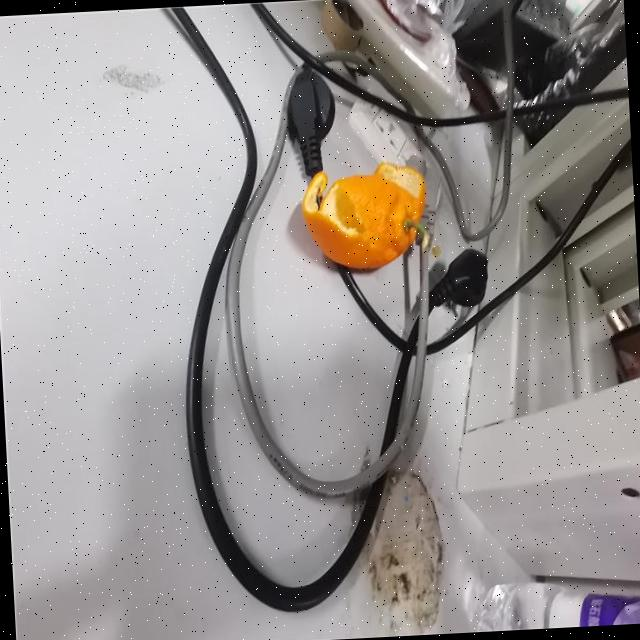orange-peel: (298, 158, 430, 274)
